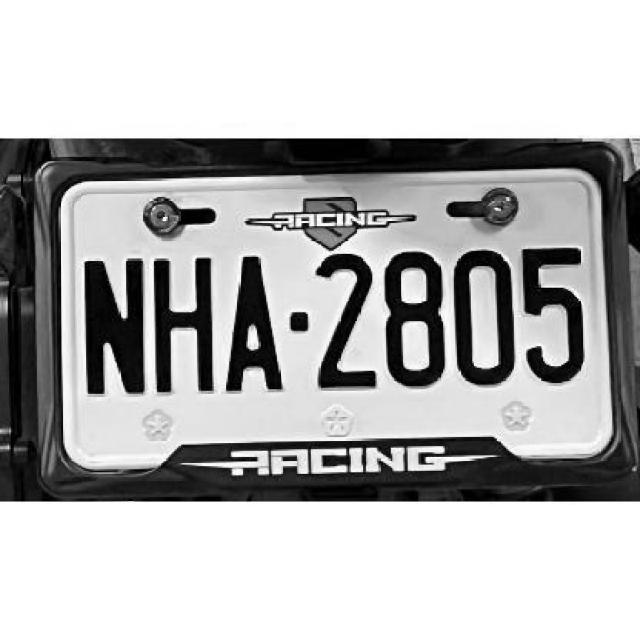-: (289, 306, 311, 331)
0: (448, 245, 515, 386)
2: (311, 248, 378, 394)
5: (517, 240, 588, 388)
8: (380, 245, 448, 389)
A: (225, 244, 286, 394)
H: (149, 252, 217, 392)
N: (82, 257, 149, 398)
